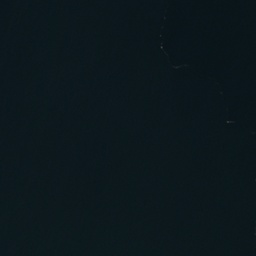Marine Debris: (159, 43, 168, 56), (226, 120, 233, 124)
